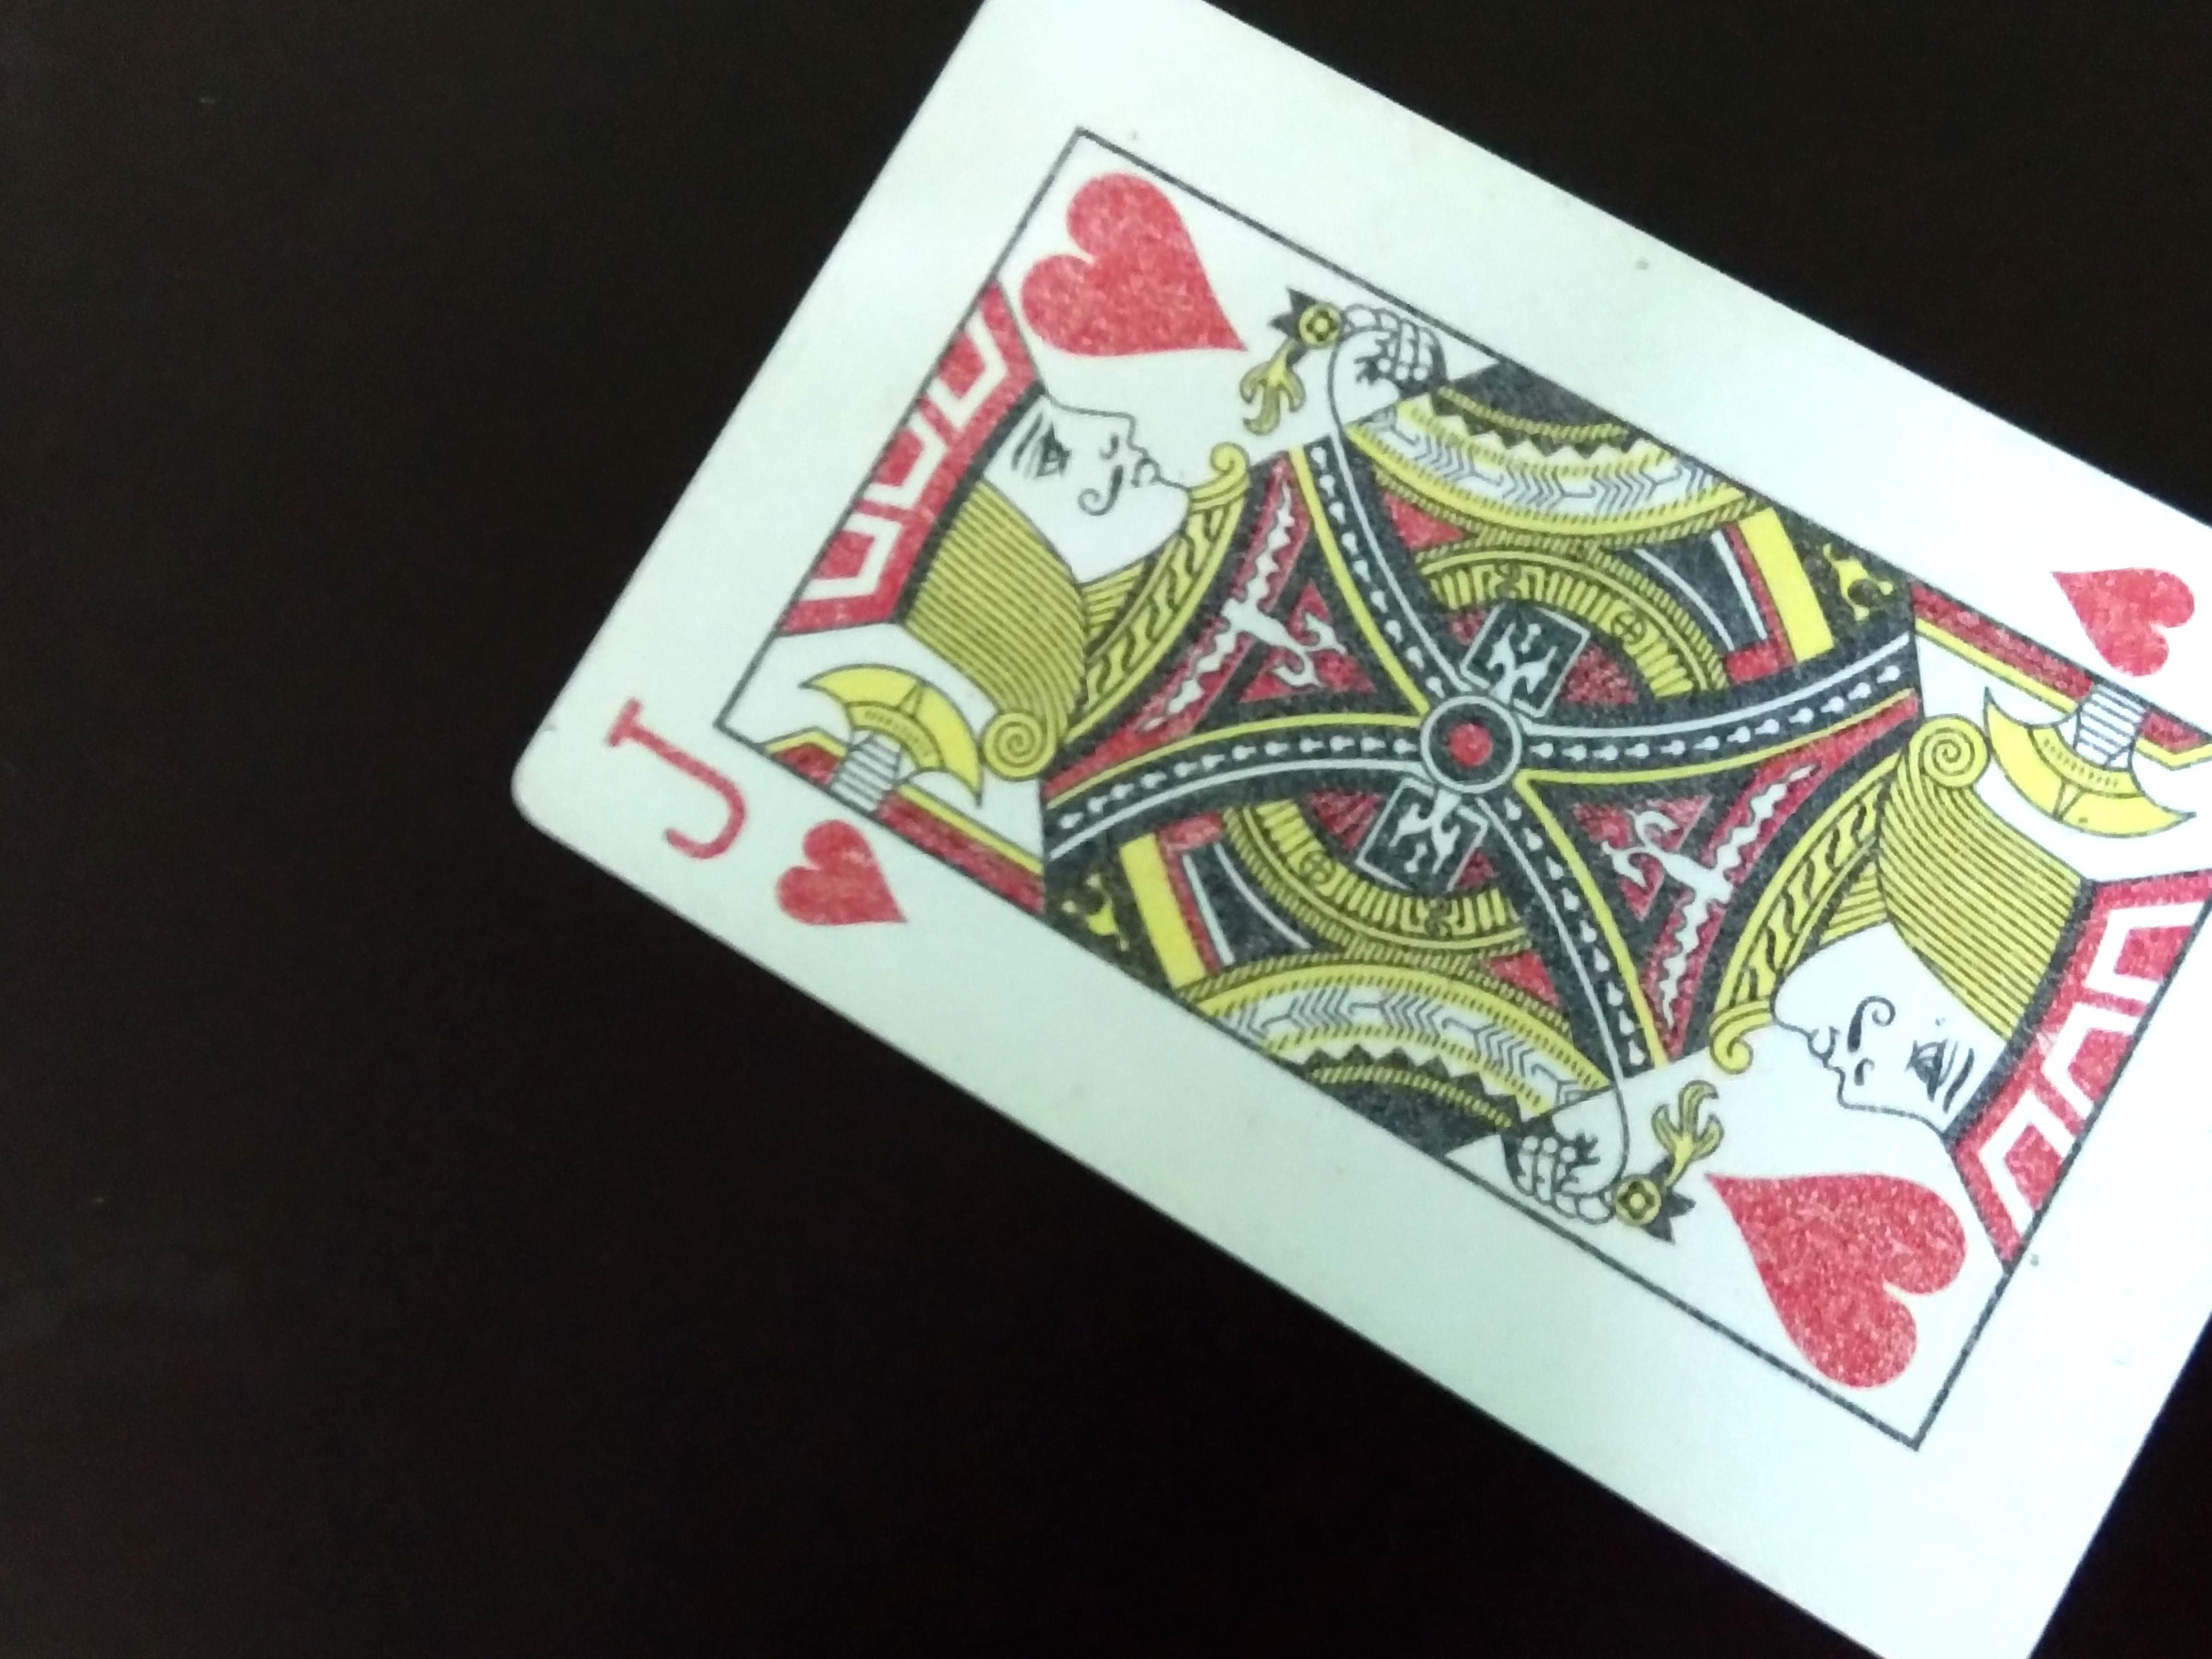JH: (582, 692, 871, 934)
